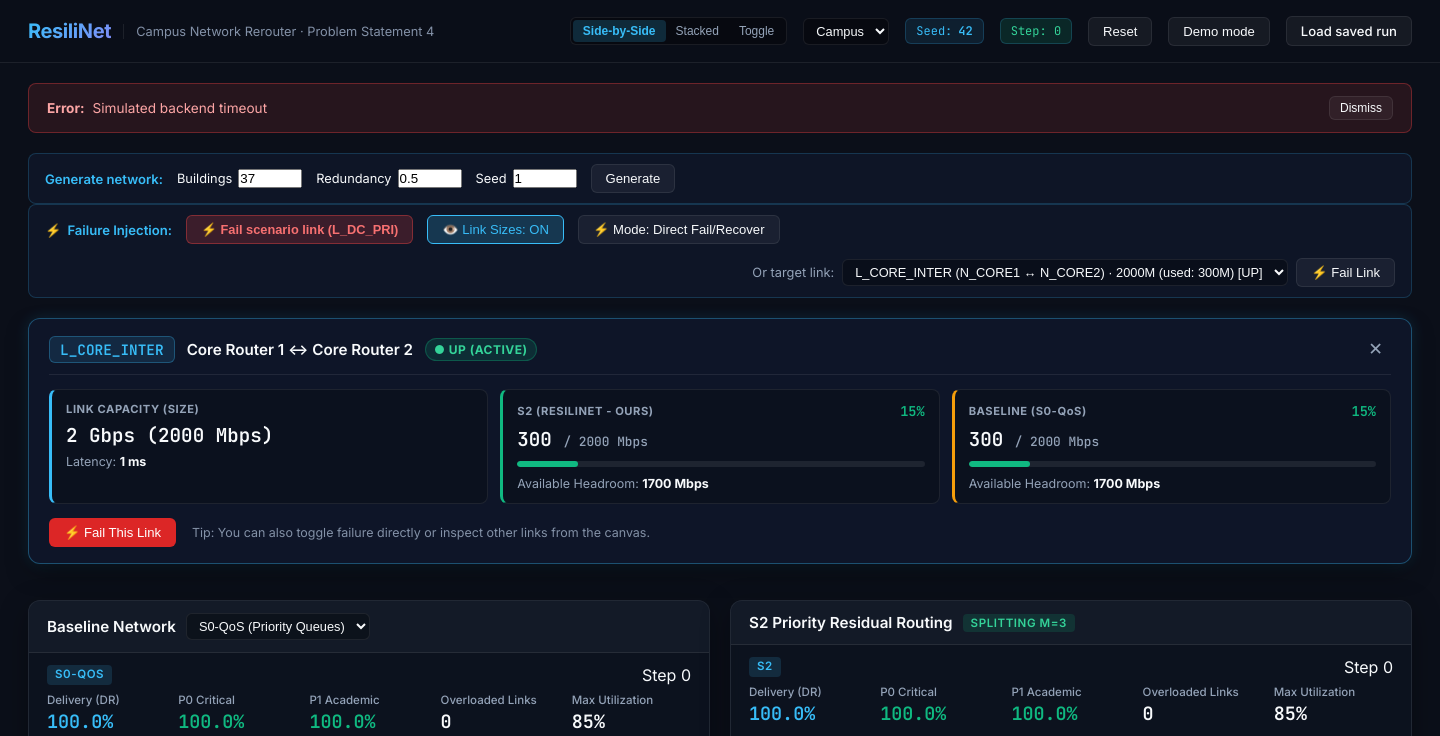
it: App Component (Phase 1 & Phase 2) › displays error banner on request failure while retaining snapshots (Task 2.5)
Expected: the button with test id "quick-fail-btn" is shown, 186,215 -> 413,244
Expected: the element with test id "error-banner" is shown, 28,83 -> 1412,133
# Dismiss error
Click the button "Dismiss" at (1361, 108), box 1329,96 -> 1393,120
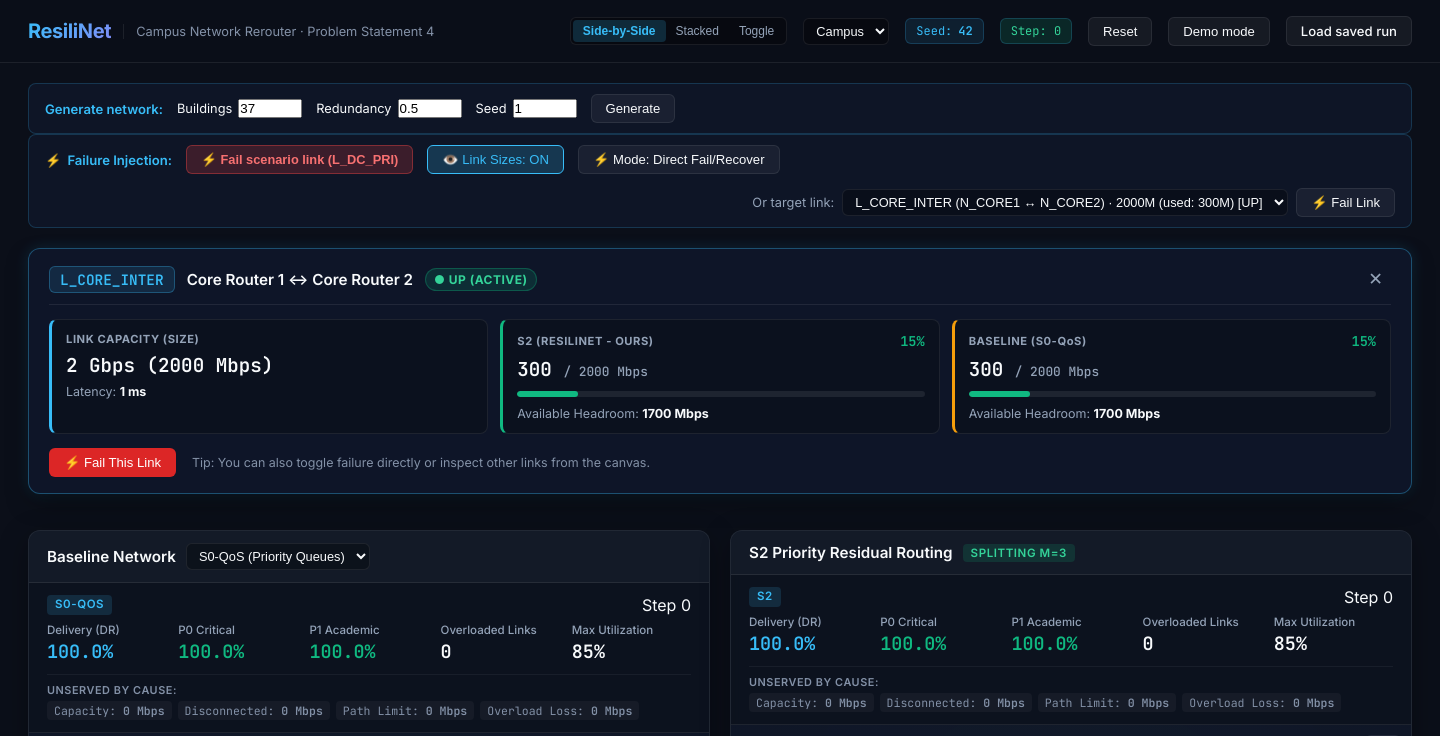
Expected: the element with test id "error-banner" is gone
